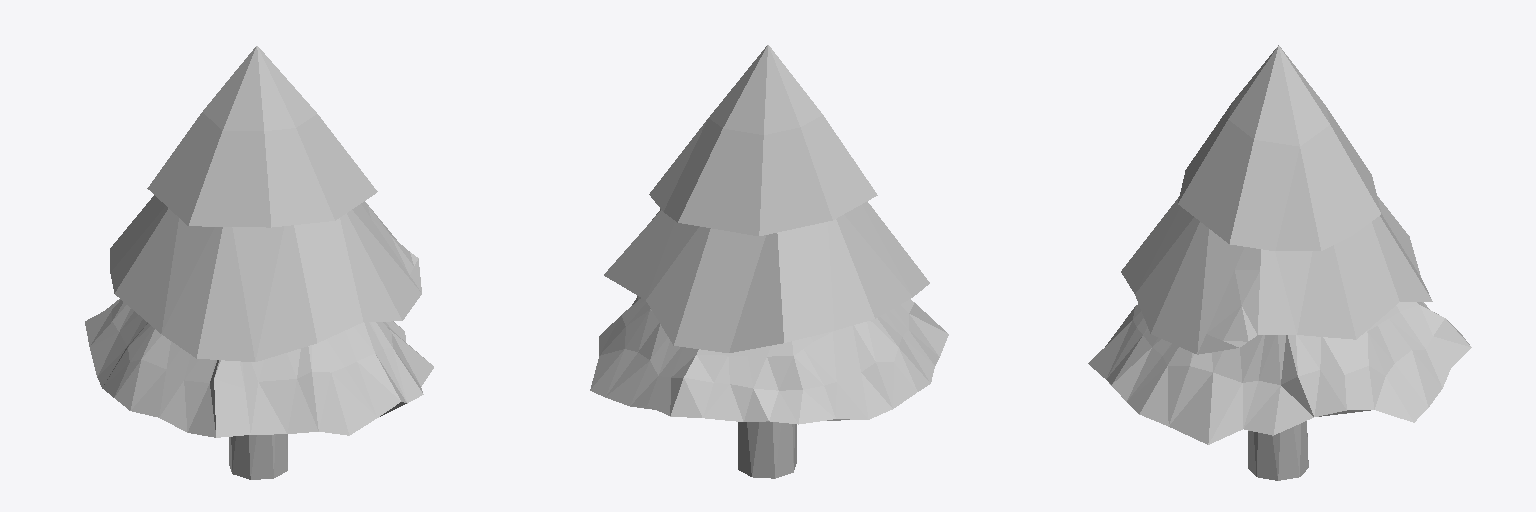
Rendered from tree2.obj.
The picture shows the model from 3 angles: view 1: azimuth 30°, elevation 25°; view 2: azimuth 150°, elevation 25°; view 3: azimuth 270°, elevation 25°; orthographic projection.
Parts seen in each view (by area): view 1: 円錐.007; view 2: 円錐.007; view 3: 円錐.007.
Boxes of the visible parts, x1,y1,x2,y2 form: 円錐.007: [85, 46, 433, 479]; 円錐.007: [590, 45, 948, 478]; 円錐.007: [1088, 45, 1471, 480].
Bounding box in the file's own units: 3.3 × 4.57 × 3.76.